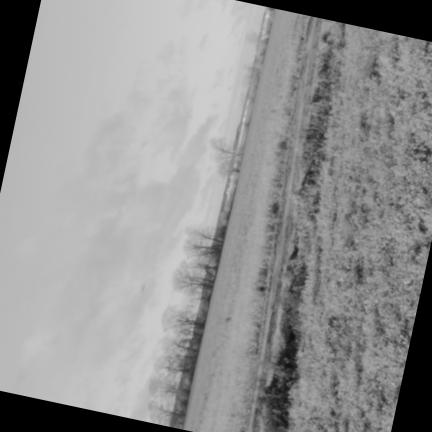Shahed: (141, 284, 145, 293)
